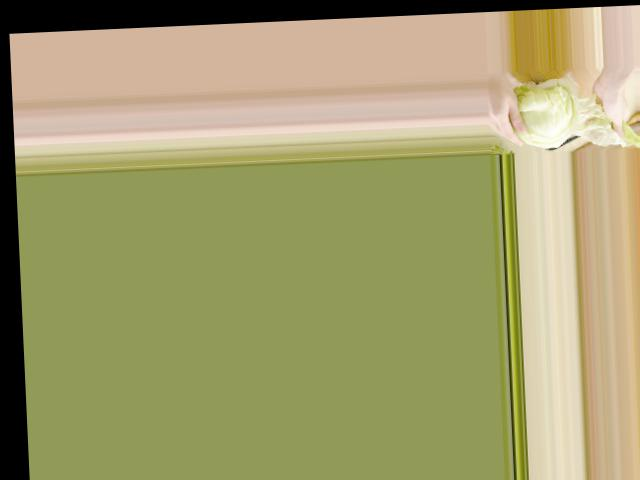lettuce: (506, 72, 596, 152)
